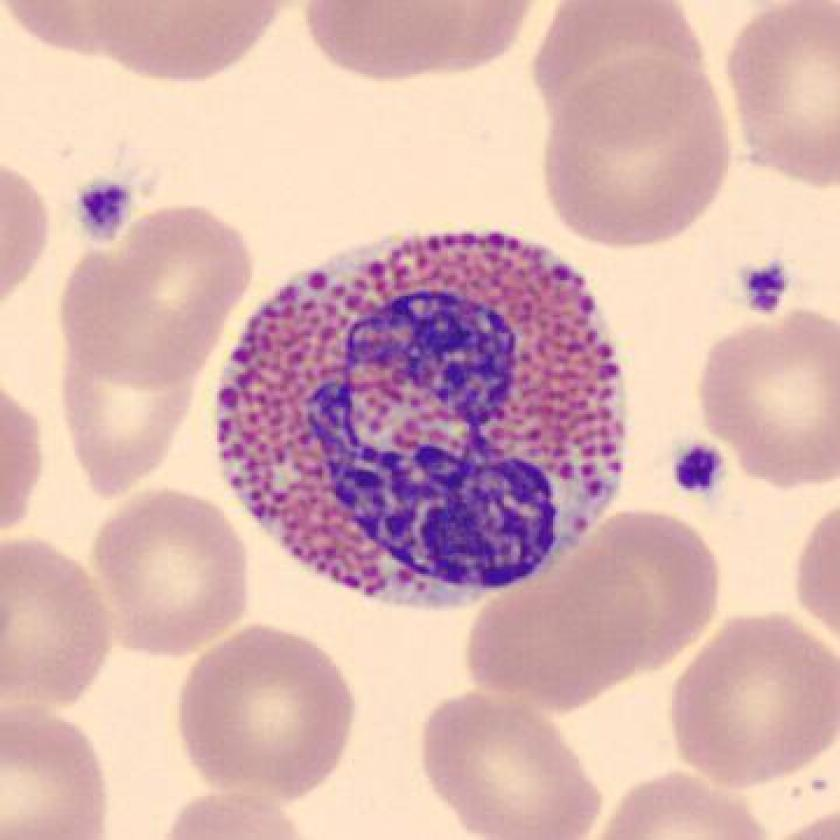eosinophil: (199, 216, 643, 619)
